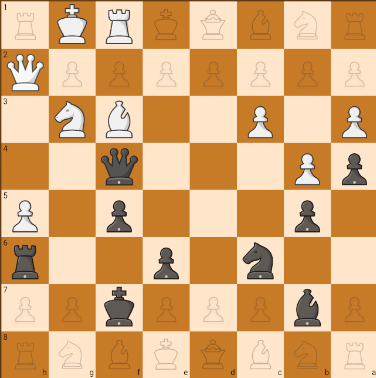bb: (286, 286, 330, 328)
bk: (98, 286, 141, 328)
bn: (237, 239, 282, 283)
bp: (336, 145, 373, 188), (101, 195, 139, 235), (289, 196, 326, 235), (151, 240, 182, 284)
bq: (101, 145, 143, 190)
br: (4, 239, 47, 282)
wb: (102, 100, 139, 141)
wk: (50, 0, 94, 48)
wn: (52, 98, 91, 141)
wp: (3, 197, 41, 235), (244, 102, 279, 140), (290, 149, 326, 185), (335, 102, 369, 139)
wq: (4, 53, 46, 97)
wr: (100, 5, 140, 47)
